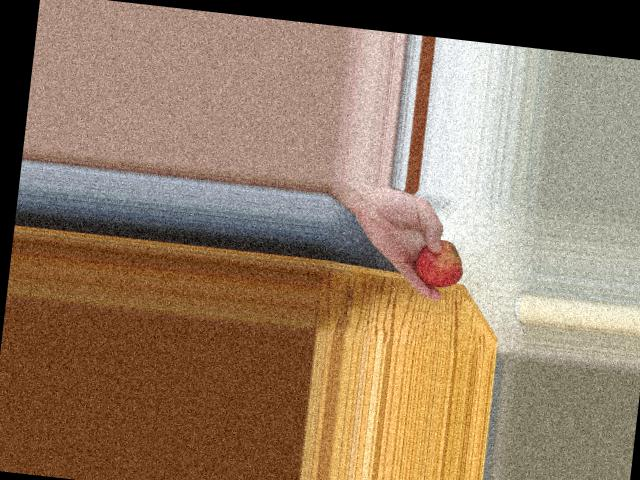apple: (404, 233, 469, 291)
